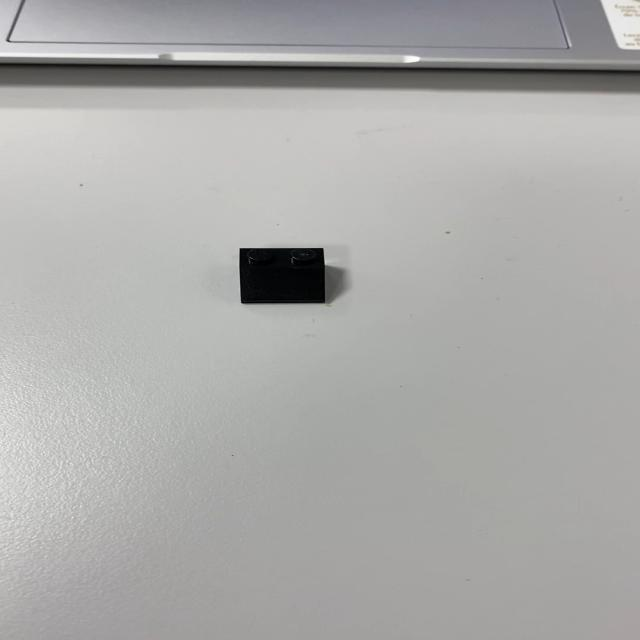P2x2x1: (237, 247, 327, 304)
